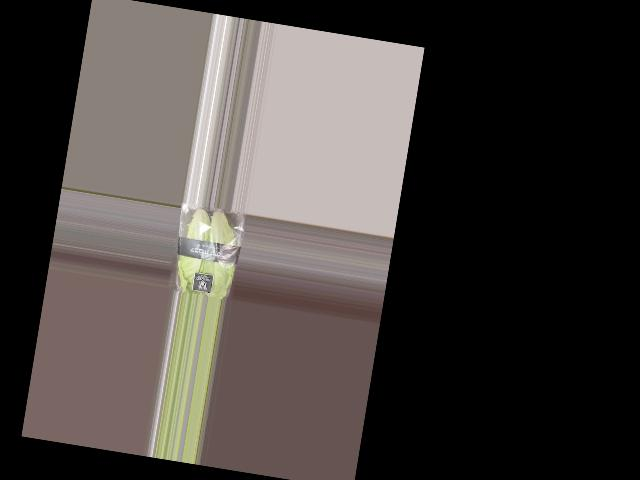lettuce: (168, 201, 242, 299)
